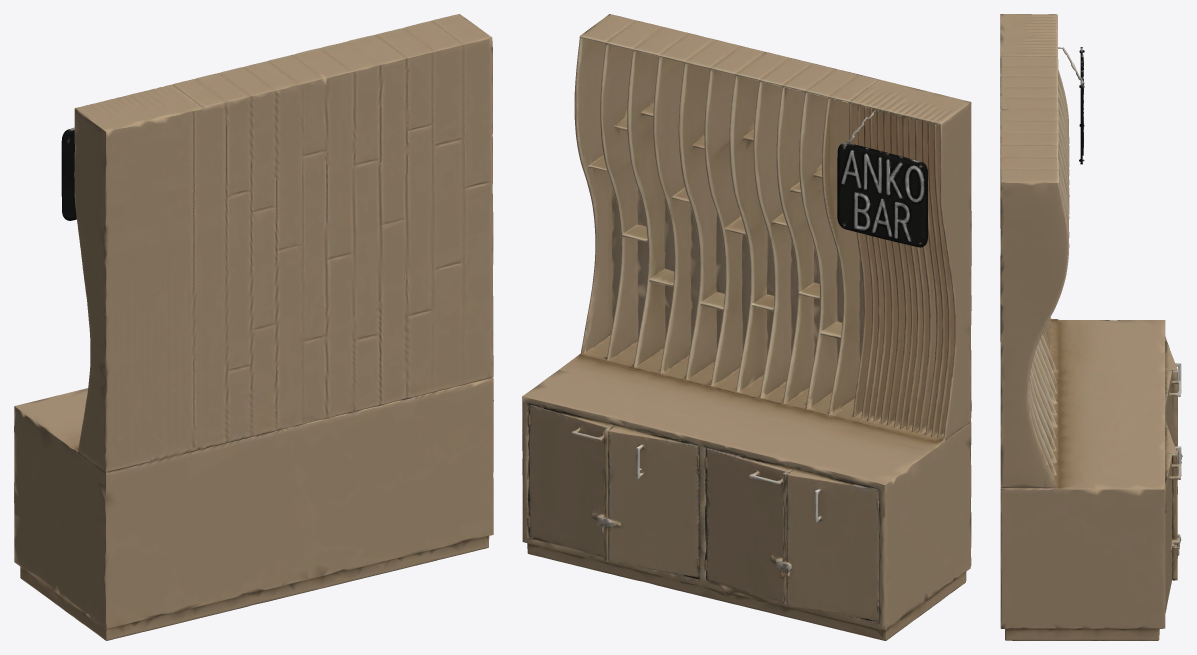
The model's file is bar-back-wall.glb.
3 views of the same model, side by side, from view 1: azimuth 30°, elevation 25°; view 2: azimuth 150°, elevation 25°; view 3: azimuth 270°, elevation 25° (orthographic). The views are drawn at different scales.
Visible parts, largest first — view 1: tripo_node_ff0754e0-dd1d-40ad-867e-32d62255a874; view 2: tripo_node_ff0754e0-dd1d-40ad-867e-32d62255a874; view 3: tripo_node_ff0754e0-dd1d-40ad-867e-32d62255a874.
Boxes of the visible parts, x1,y1,x2,y2 form: tripo_node_ff0754e0-dd1d-40ad-867e-32d62255a874: (14,14,493,640); tripo_node_ff0754e0-dd1d-40ad-867e-32d62255a874: (522,14,971,640); tripo_node_ff0754e0-dd1d-40ad-867e-32d62255a874: (1000,14,1182,640).
Size of the model in its own units: 1.89 by 2.4 by 0.8593.
Materials: 1 (1 with a texture image).
